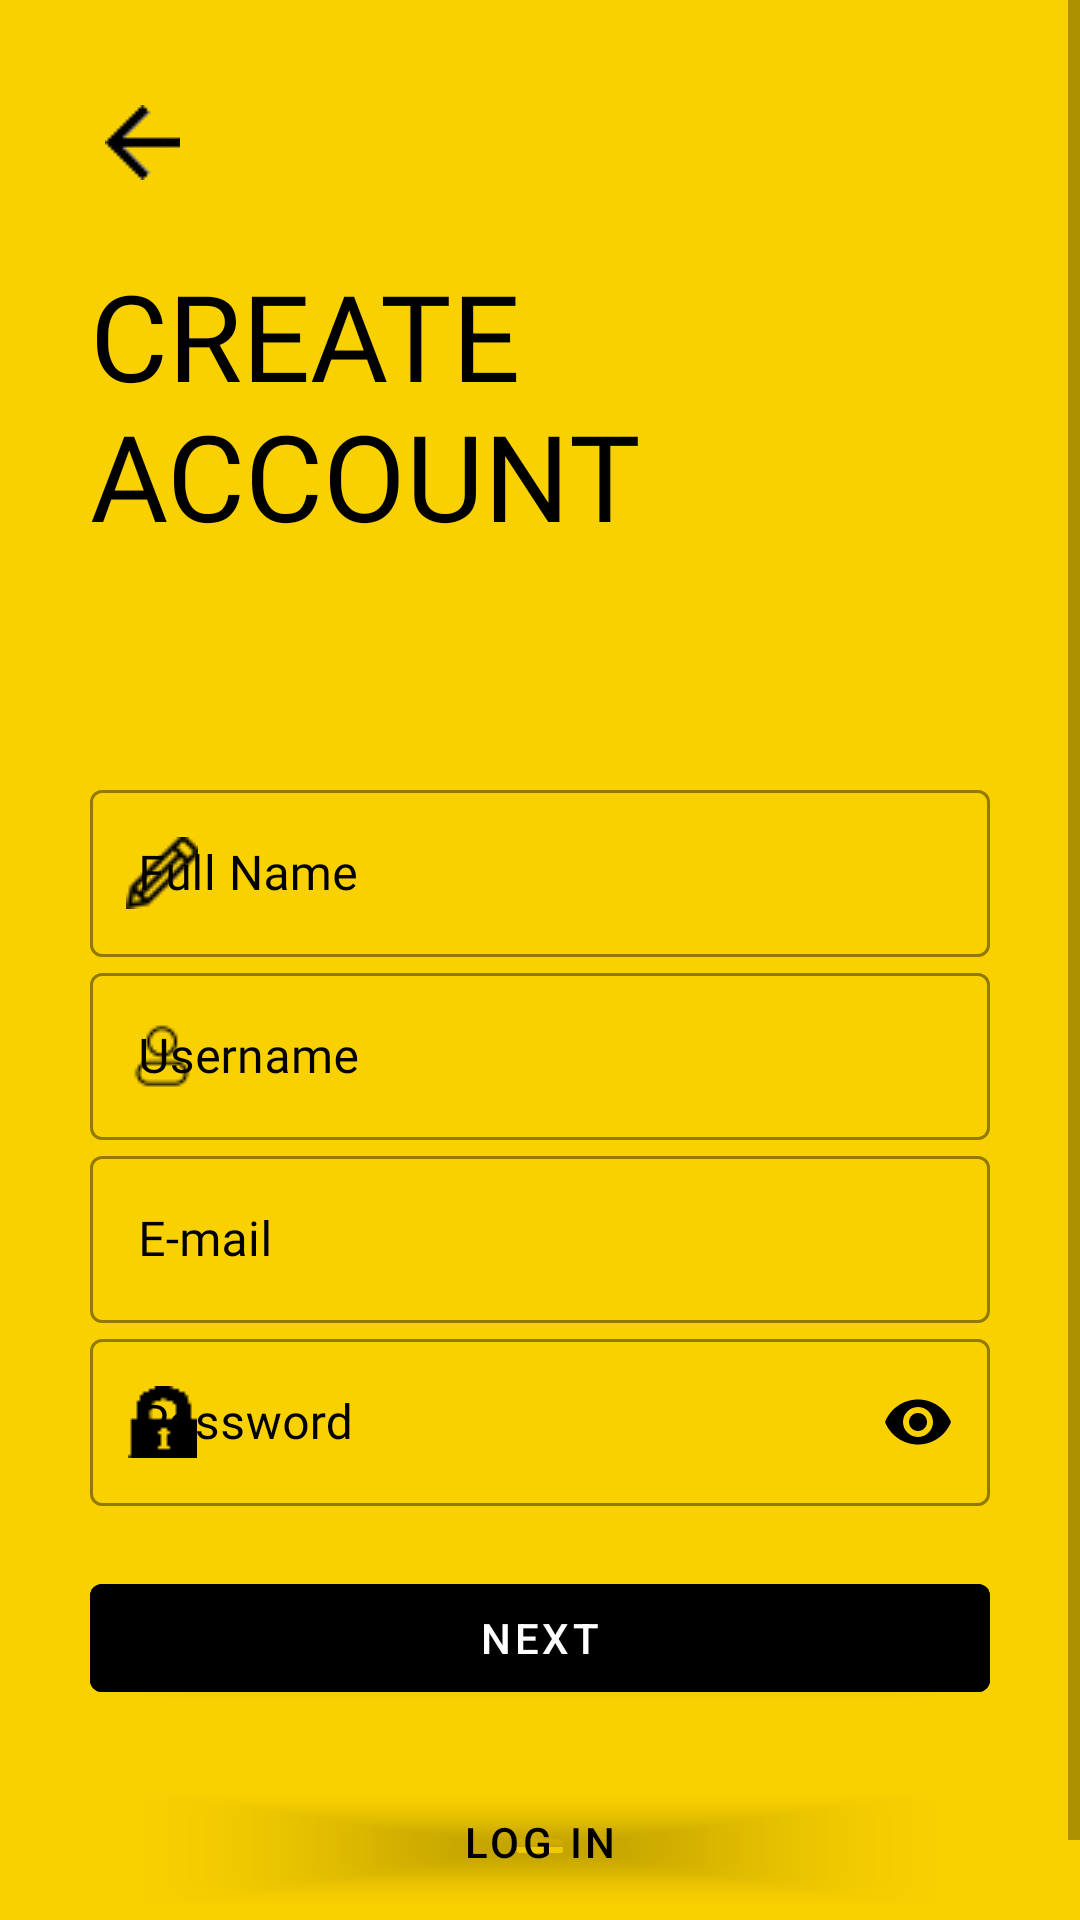

Screen size 1080w x 1920h. Icon name, then its box in pixels as (x1, y1, x2, y2):
general back: (105, 105, 180, 180)
